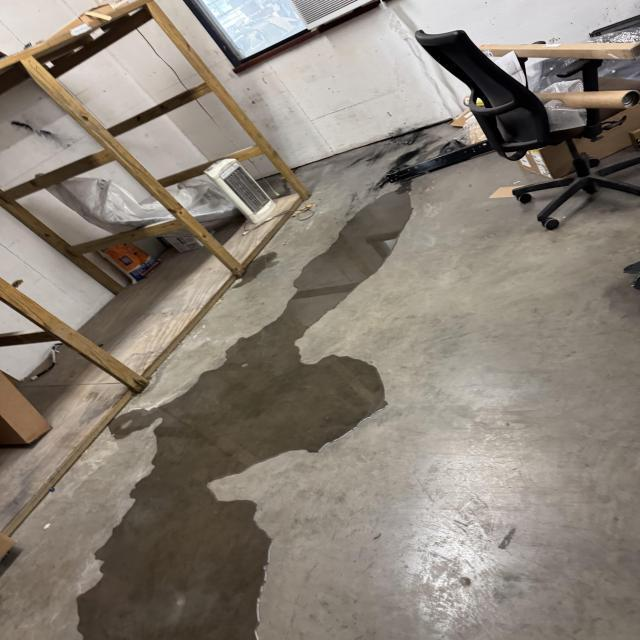water accumulation: (72, 186, 415, 640)
